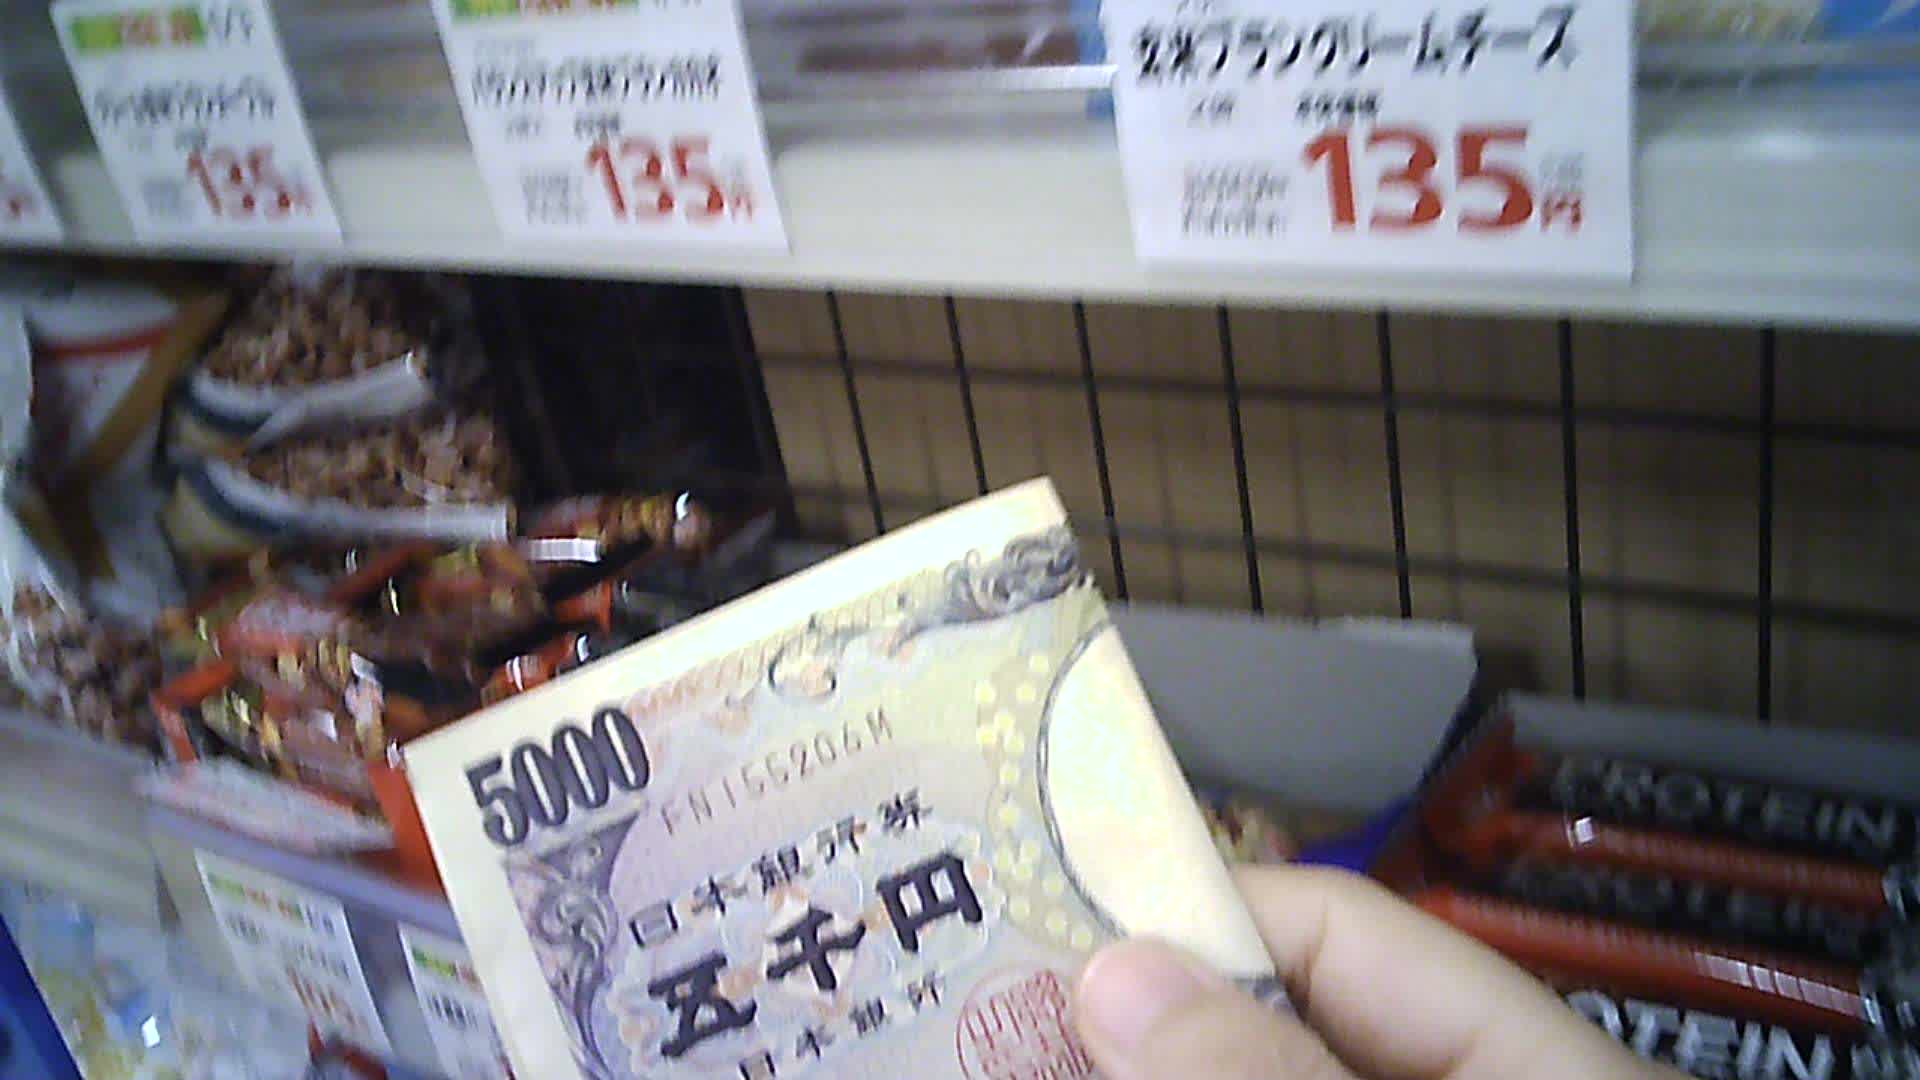5,000 Yen: (390, 462, 1331, 1077)
